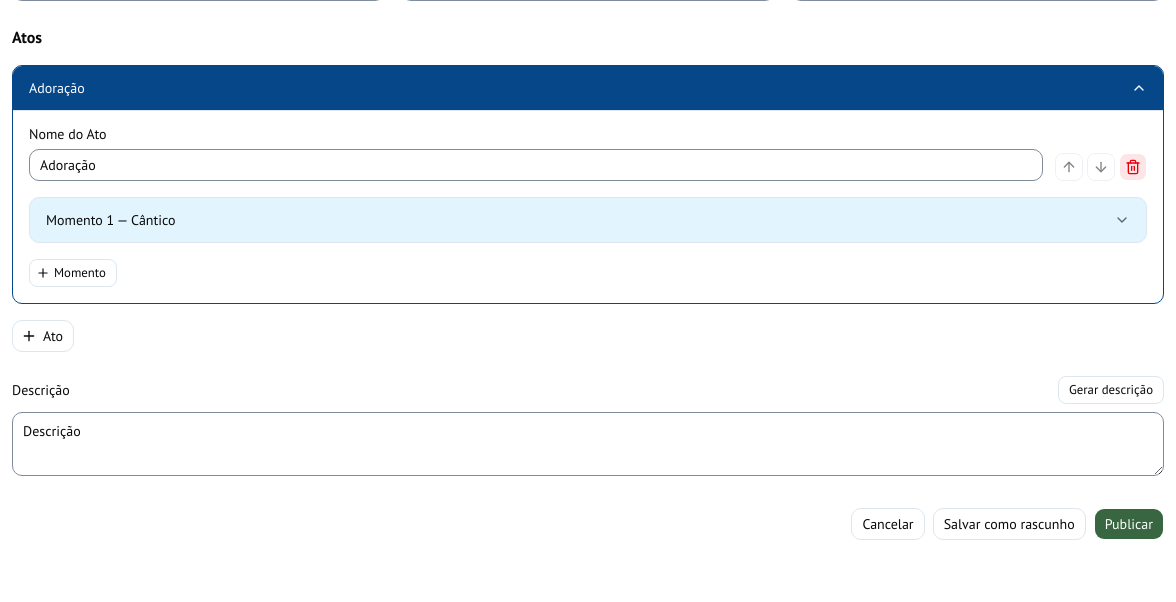
Test: LiturgyForm Cântico › replaces the search with a card naming the chosen Cântico and its hymnal track
Click the button "Momento 1 — Cântico" at (76, 220), box [30,198,1146,242]
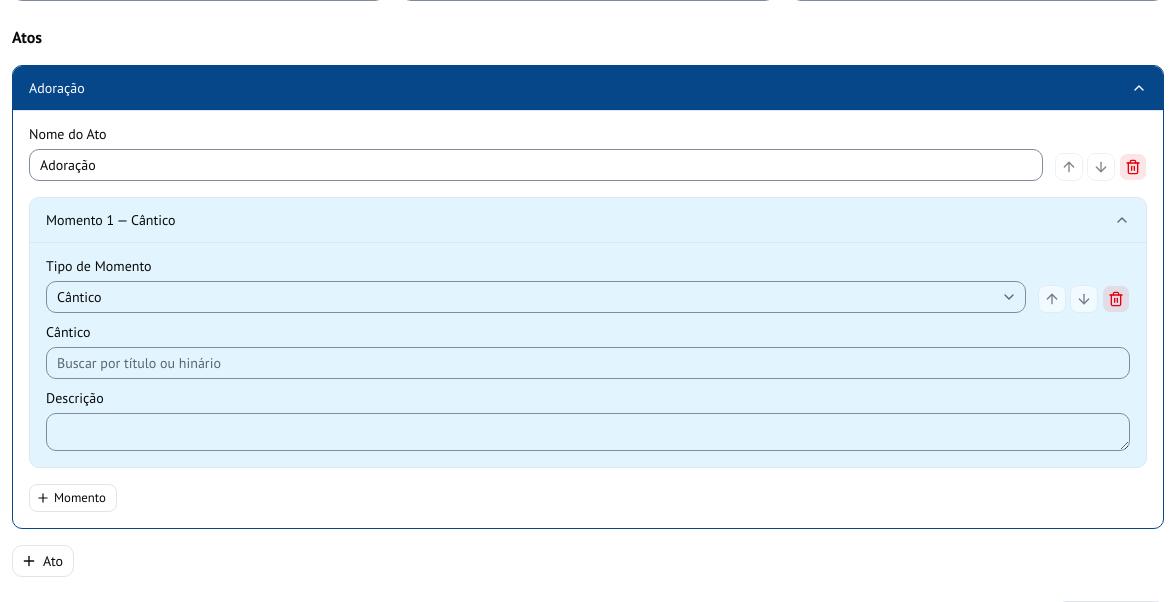
Type "castelo" into the dropdown labelled "Cântico" at (588, 363), box [46,347,1130,379]
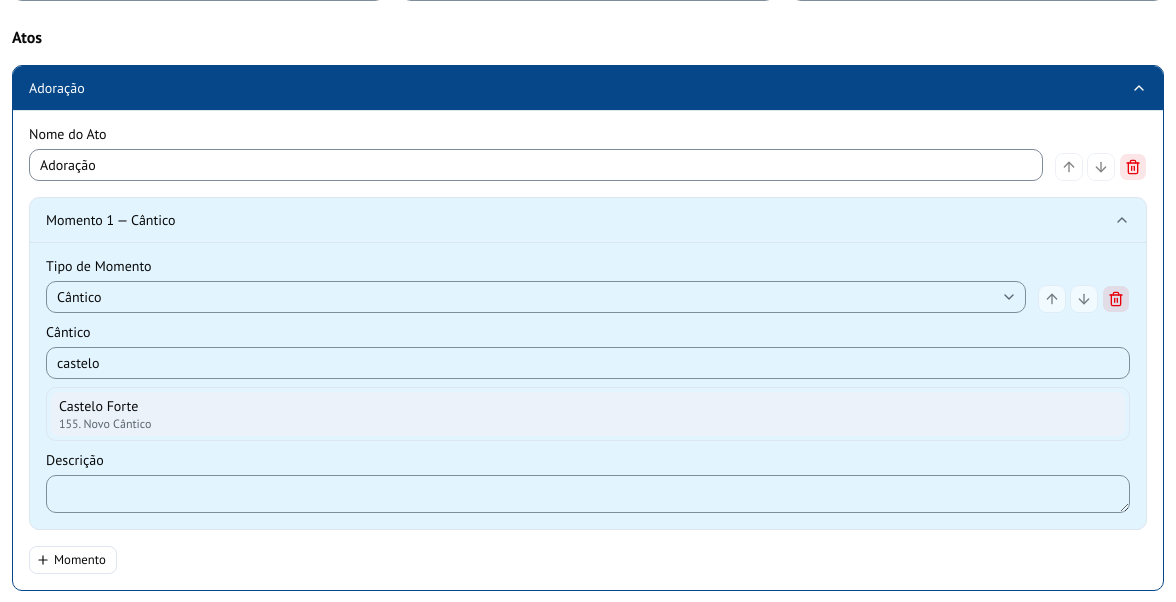
Click the option "Castelo Forte 155. Novo Cântico" at (99, 406), box [51,392,1125,436]
(page scrolled)
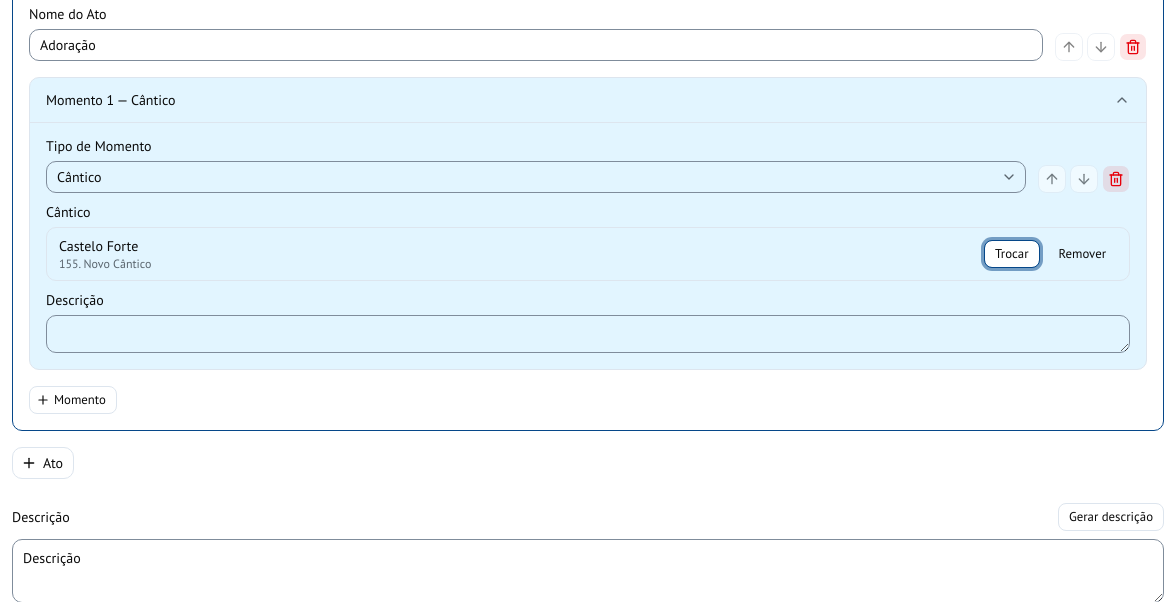
Check: the element named "Cântico selecionado" shows "Castelo Forte", box [59,237,138,255]
Check: the element named "Cântico selecionado" shows "155. Novo Cântico", box [59,256,151,271]
